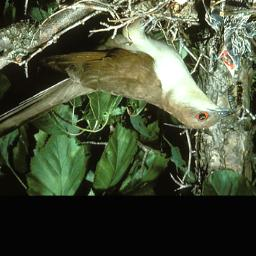Cuckoo: (0, 20, 238, 157)
